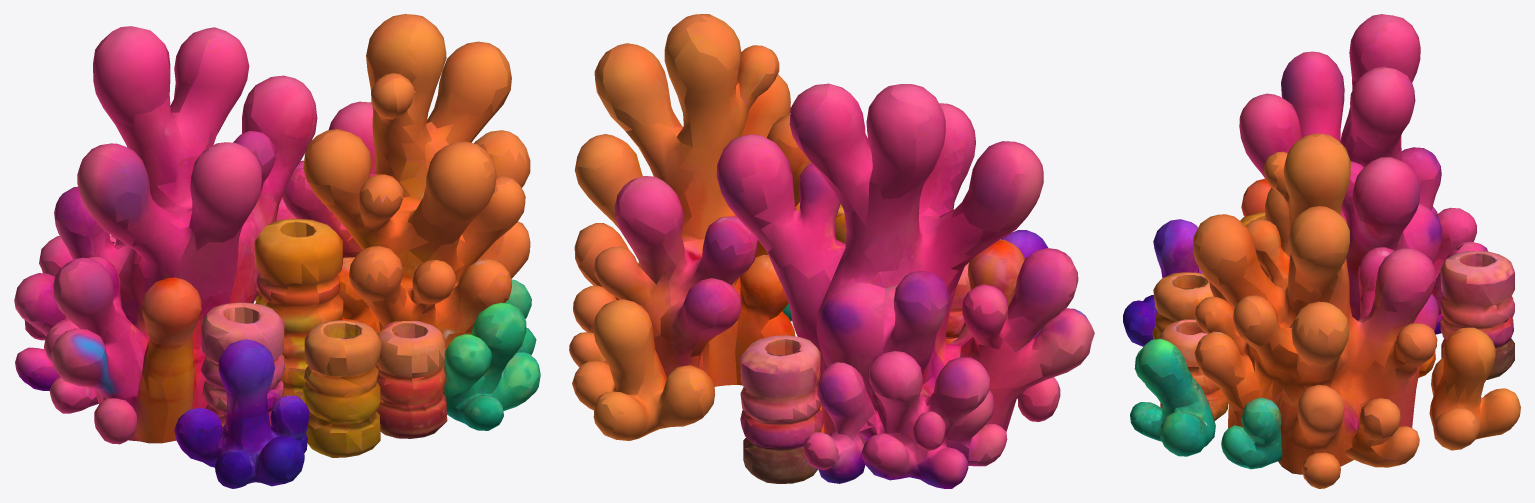
The model's file is candy-coral.glb.
The picture shows the model from 3 angles, left to right: view 1: azimuth 30°, elevation 25°; view 2: azimuth 150°, elevation 25°; view 3: azimuth 270°, elevation 25°; orthographic projection. The views are drawn at different scales.
Bounding box in the file's own units: 1 × 0.7246 × 0.7949.
1 material, 1 textured.
